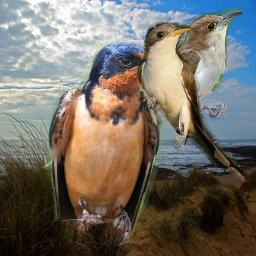Cuckoo: (42, 8, 243, 168), (137, 22, 251, 186)
Swallow: (48, 41, 167, 246)
